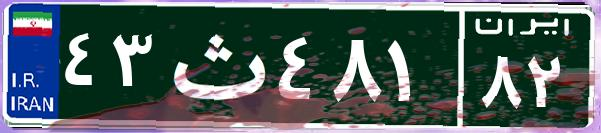1: (385, 28, 445, 110)
2: (525, 38, 570, 115)
3: (110, 28, 158, 105)
4: (273, 28, 330, 110), (57, 26, 110, 107)
8: (330, 28, 385, 110), (475, 38, 525, 113)
ث: (158, 15, 273, 115)
